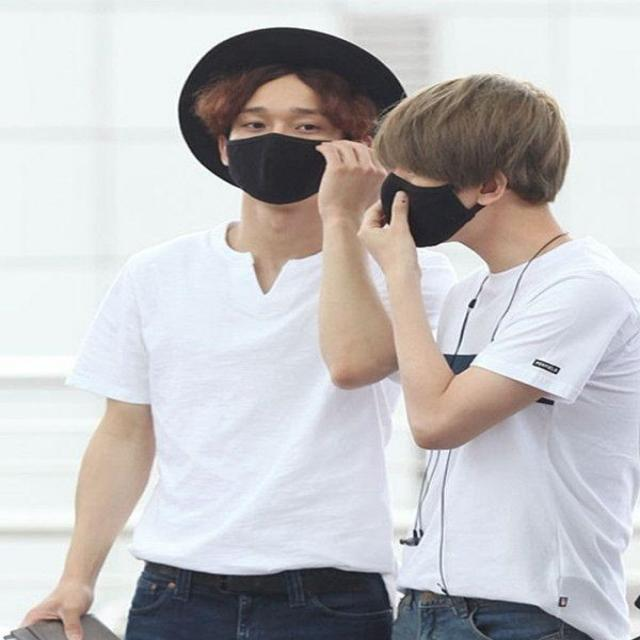mask: (228, 74, 344, 205), (380, 149, 465, 252)
